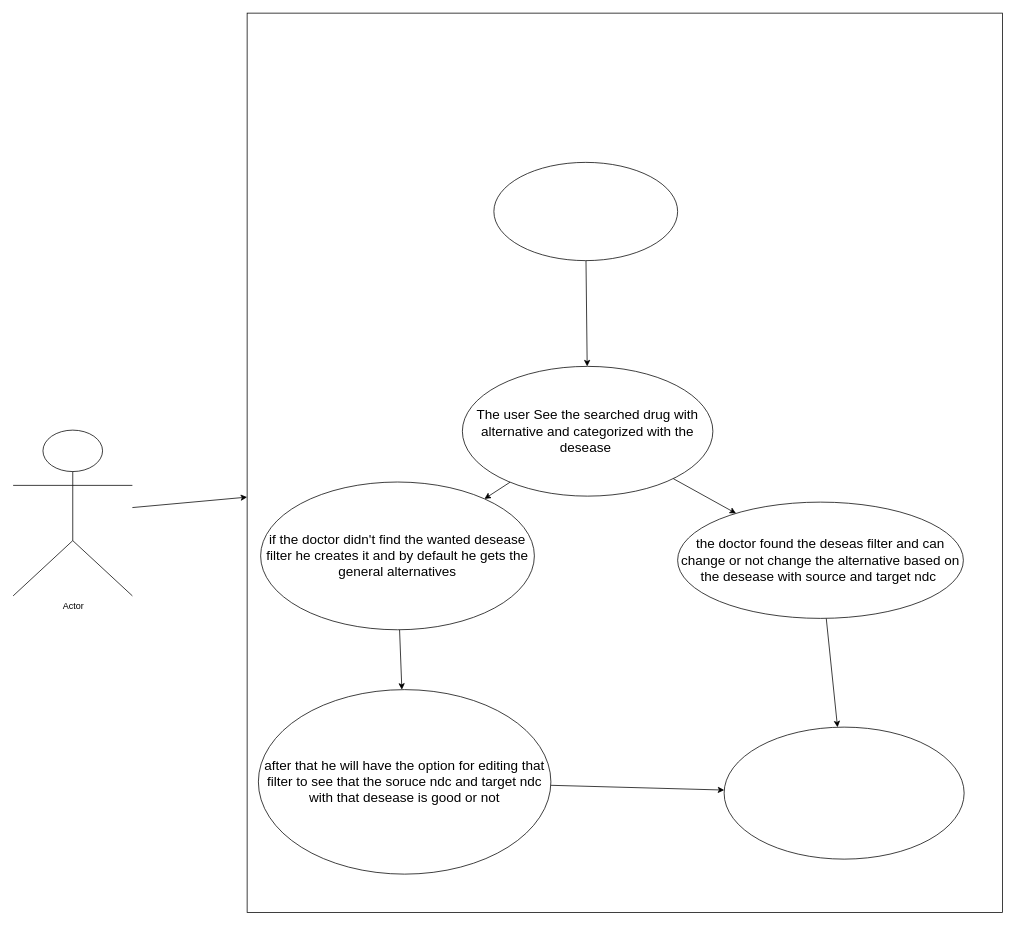
This 1016x926 diagram has some shape labels left out. Here are the shapes that lost their labels. From the top down, the centre of each, then its label:
At [585,211]: "Search for Drug with Dynamic Class Version 8".
At [843,792]: "Doctors Can see the logs of who make this change".
